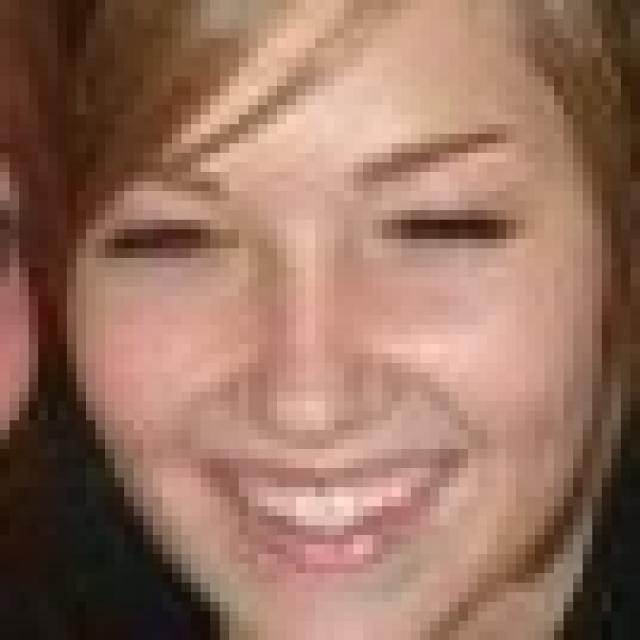Eyeclosed: (384, 204, 516, 257), (105, 216, 226, 271)
